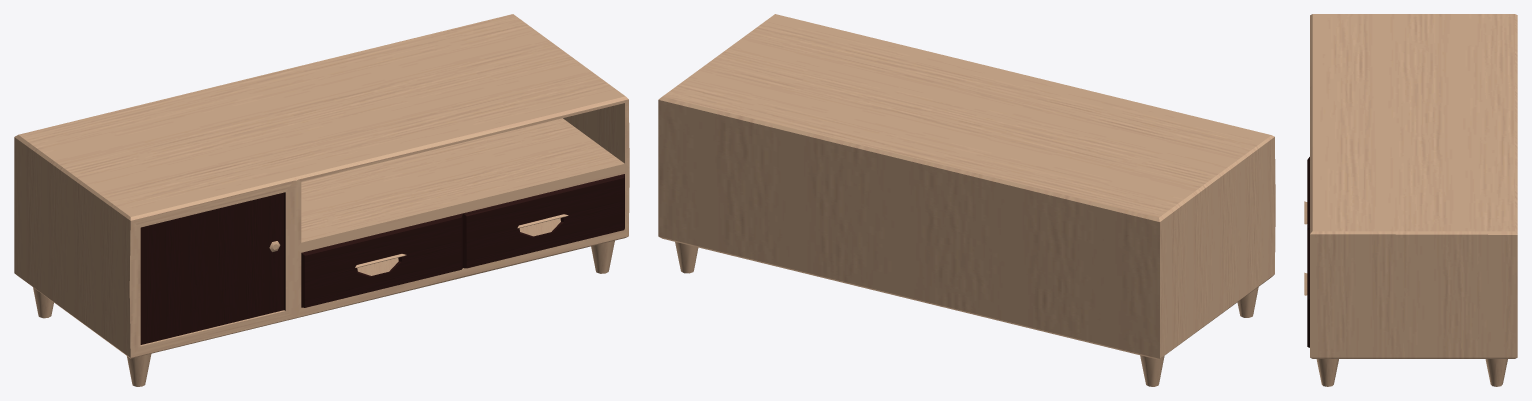
The model's file is Television_Stand_10.FBX.
3 renders of one model, left to right at view 1: azimuth 30°, elevation 25°; view 2: azimuth 150°, elevation 25°; view 3: azimuth 270°, elevation 25°, orthographic. The views are drawn at different scales.
Parts seen in each view (by area): view 1: Television_Stand; view 2: Television_Stand; view 3: Television_Stand.
Part boxes in pixels (x1,y1,x2,y2): Television_Stand: (14, 14, 629, 386); Television_Stand: (658, 14, 1275, 386); Television_Stand: (1304, 14, 1517, 386).
Size of the model in its own units: 425 by 144 by 175.
